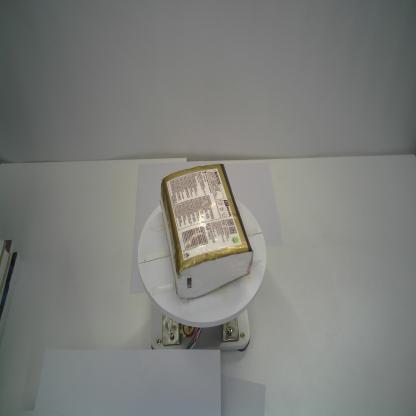Tissue: (159, 162, 253, 300)
